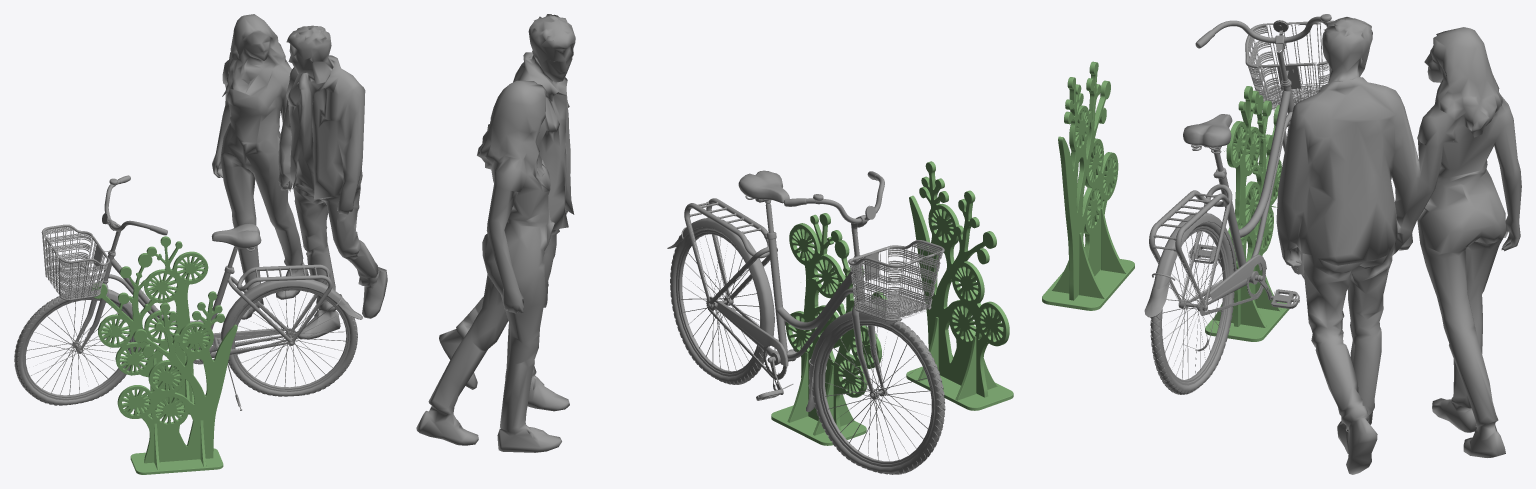
3 renders of one model, left to right at view 1: azimuth 30°, elevation 25°; view 2: azimuth 150°, elevation 25°; view 3: azimuth 270°, elevation 25°, orthographic. The views are drawn at different scales.
Parts seen in each view (by area): view 1: Couple, bike1, Shape006, BR01, Rectangle012, Arc026; view 2: Couple, bike1, Shape006, BR01, Arc025, Rectangle012, Rectangle009, Arc026; view 3: Couple, bike1, Shape006, BR01, Arc026, Rectangle012, Arc025, Rectangle009.
Part boxes in pixels (box(x1,y1,x2,y2)): Couple: box(212, 14, 387, 339); bike1: box(14, 175, 362, 410); Shape006: box(117, 291, 237, 463); BR01: box(91, 236, 209, 405); Rectangle012: box(130, 448, 223, 474); Arc026: box(154, 420, 206, 469); Couple: box(416, 14, 575, 452); bike1: box(667, 170, 945, 474); Shape006: box(909, 161, 1009, 397); BR01: box(786, 213, 886, 429); Arc025: box(787, 352, 854, 435); Rectangle012: box(906, 366, 1013, 410); Rectangle009: box(771, 405, 866, 445); Arc026: box(918, 317, 997, 400); Couple: box(1276, 17, 1521, 474); bike1: box(1144, 14, 1333, 394); Shape006: box(1058, 61, 1118, 300); BR01: box(1221, 86, 1281, 326); Arc026: box(1052, 207, 1127, 298); Rectangle012: box(1042, 259, 1134, 310); Arc025: box(1213, 238, 1280, 327); Rectangle009: box(1205, 302, 1289, 341).
Size of the model in its own units: 2.43 by 1.85 by 1.93.
